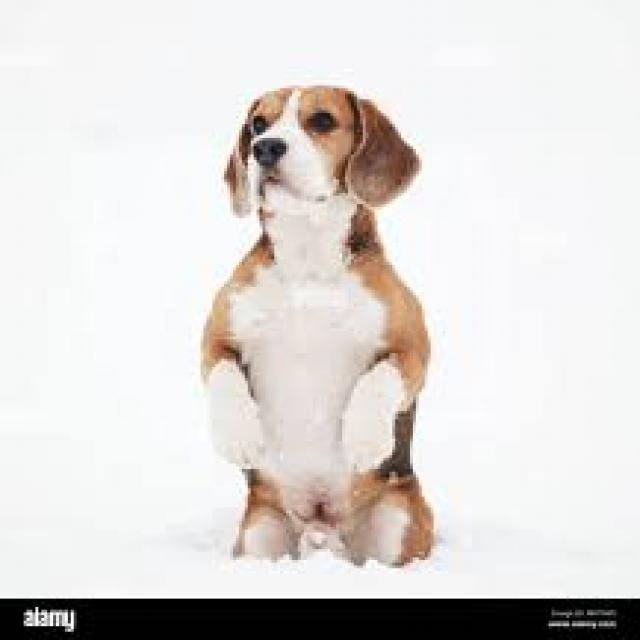Dog: (195, 80, 439, 569)
